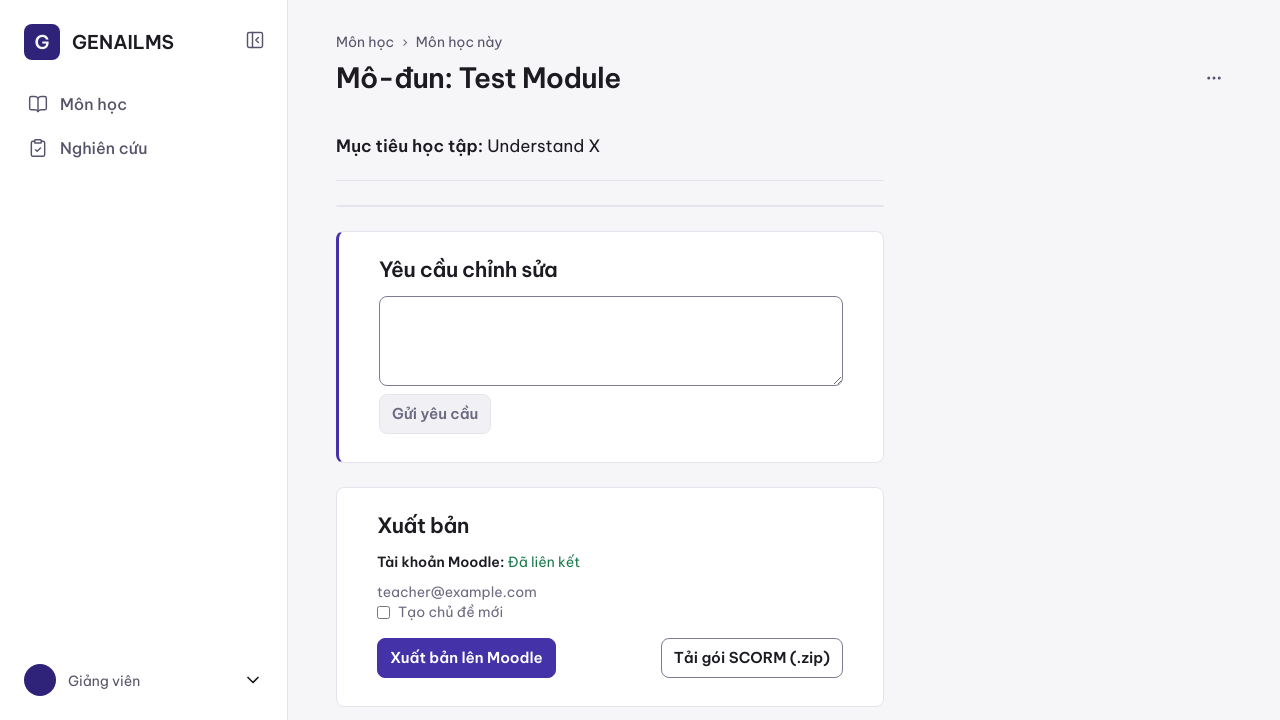
Test: ModulePreviewPage - publish to Moodle › shows an error and hides publishing when access cannot be confirmed again after failure
The image size is (1280, 720).
Step 1. Click the button "Xuất bản lên Moodle" → (466, 658), box [377,638,556,678]
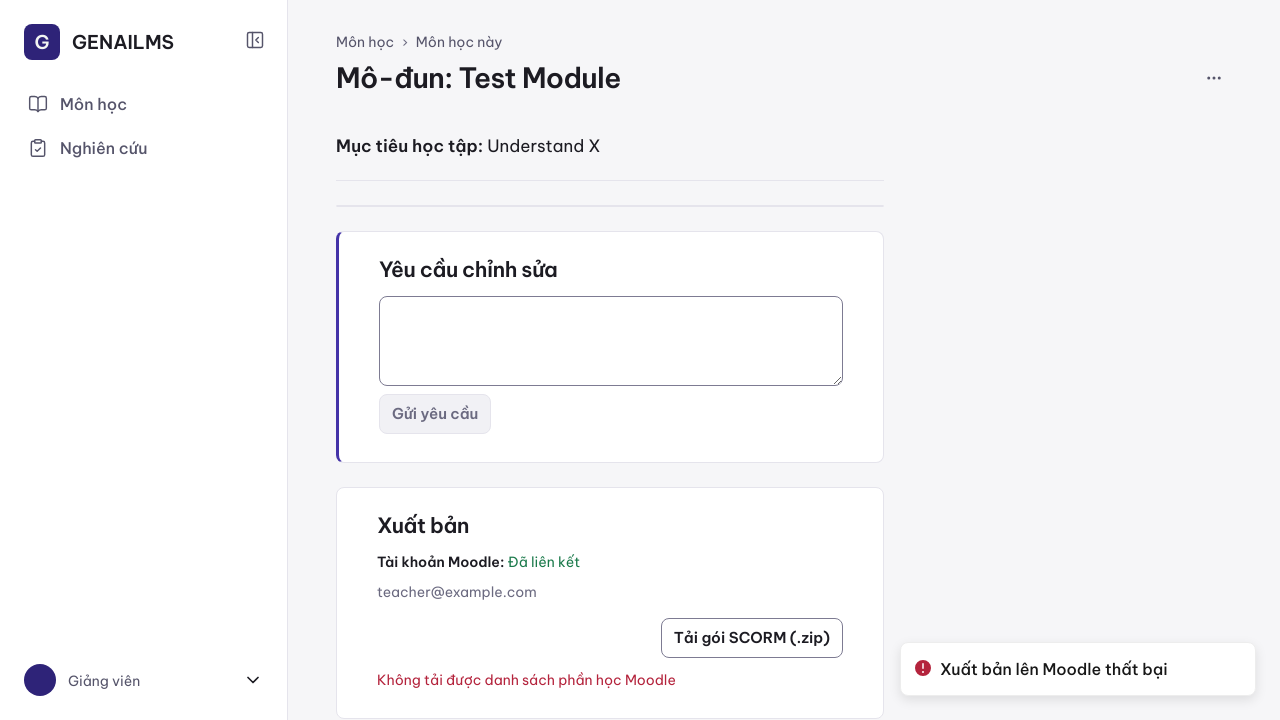
Now the text "Xuất bản lên Moodle thất bại" is shown, box [940,657,1168,681]
